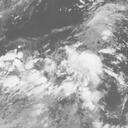cyclone: (66, 47, 104, 88)
